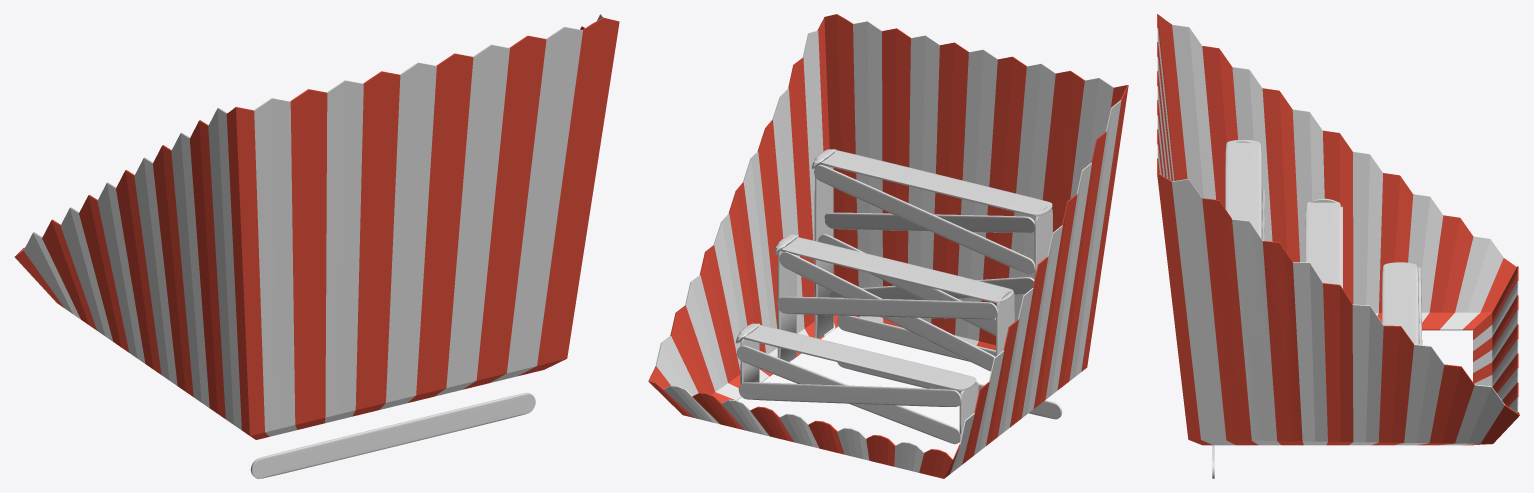
File: Sushido_Benches (1).fbx
3 renders of one model, left to right at view 1: azimuth 30°, elevation 25°; view 2: azimuth 150°, elevation 25°; view 3: azimuth 270°, elevation 25°, orthographic. The views are drawn at different scales.
Parts seen in each view (by area): view 1: popsiclestick_mods.014, popsiclestick_mods.016; view 2: popsiclestick_mods.014, popsiclestick_mods.015, popsiclestick_mods.016; view 3: popsiclestick_mods.014.
Boxes of the visible parts, box(x1,y1,x2,y2) form: popsiclestick_mods.014: box(14, 14, 619, 439); popsiclestick_mods.016: box(250, 392, 535, 478); popsiclestick_mods.014: box(648, 14, 1128, 478); popsiclestick_mods.015: box(837, 315, 995, 361); popsiclestick_mods.016: box(837, 362, 1062, 419); popsiclestick_mods.014: box(1157, 14, 1519, 445).
Bounding box in the file's own units: 3268 × 3335 × 3269.
